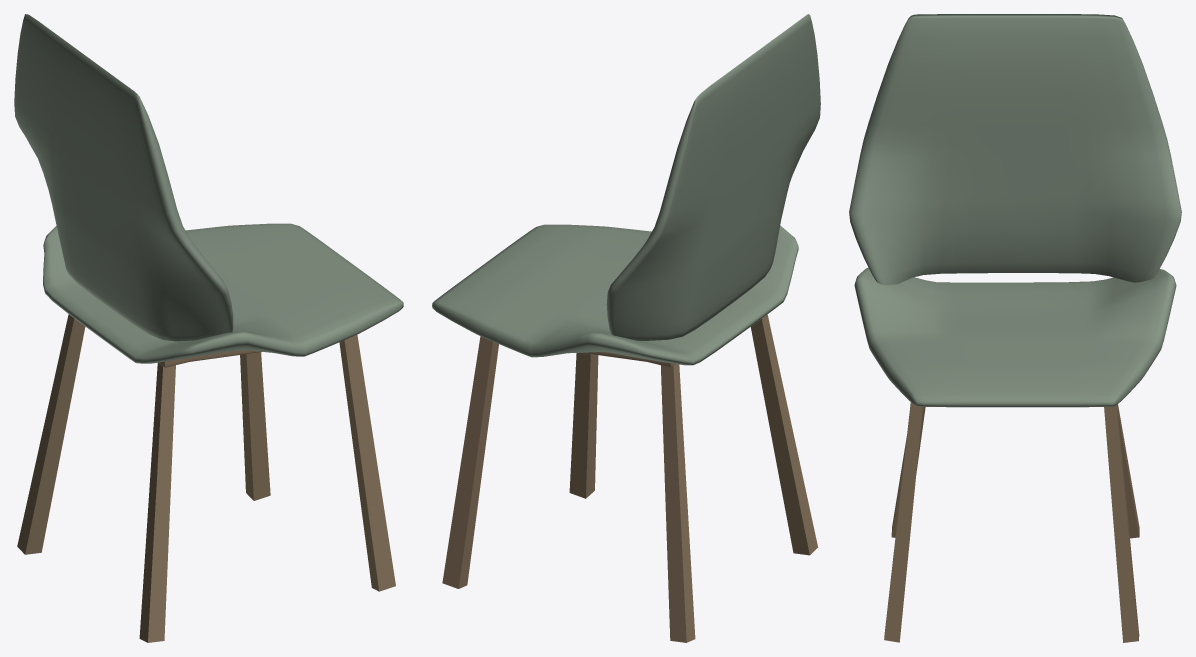
File: canteen_chair.fbx
3 renders of one model, left to right at view 1: azimuth 30°, elevation 25°; view 2: azimuth 150°, elevation 25°; view 3: azimuth 270°, elevation 25°, orthographic. The views are drawn at different scales.
Parts seen in each view (by area): view 1: pCube43; view 2: pCube43; view 3: pCube43.
Part boxes in pixels (box(x1,y1,x2,y2)): pCube43: box(14, 14, 403, 642); pCube43: box(432, 14, 820, 642); pCube43: box(849, 14, 1181, 642).
Bounding box in the file's own units: 4.59 × 8.79 × 5.13.
